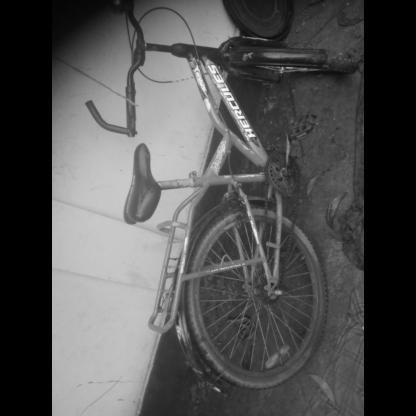Bicycle: (111, 38, 345, 412)
